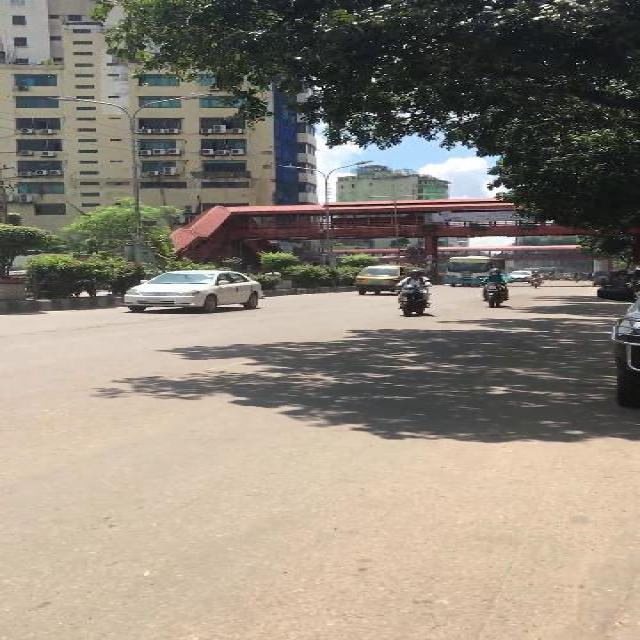bus: (443, 254, 505, 285)
car: (116, 267, 263, 312), (506, 270, 530, 282)
motorcycle: (393, 267, 432, 316), (476, 267, 514, 306)
truck: (354, 263, 409, 297)
